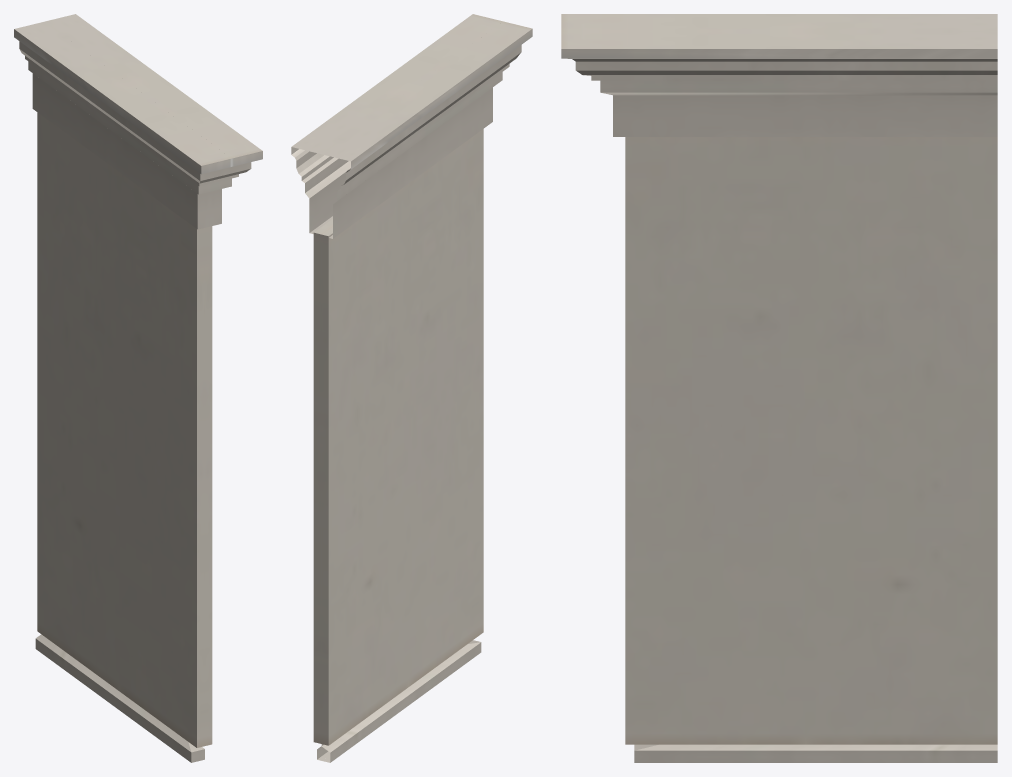
The model's file is KitCabinet_Up_End.FBX.
3 renders of one model, left to right at view 1: azimuth 30°, elevation 25°; view 2: azimuth 150°, elevation 25°; view 3: azimuth 270°, elevation 25°, orthographic. The views are drawn at different scales.
Visible parts, largest first — view 1: KitCabinet_Up_End; view 2: KitCabinet_Up_End; view 3: KitCabinet_Up_End.
Boxes of the visible parts, left/top/right/bottom form: KitCabinet_Up_End: left=14, top=14, right=262, bottom=762; KitCabinet_Up_End: left=291, top=14, right=532, bottom=762; KitCabinet_Up_End: left=561, top=14, right=997, bottom=762.
Size of the model in its own units: 10.02 by 97.13 by 52.71.
